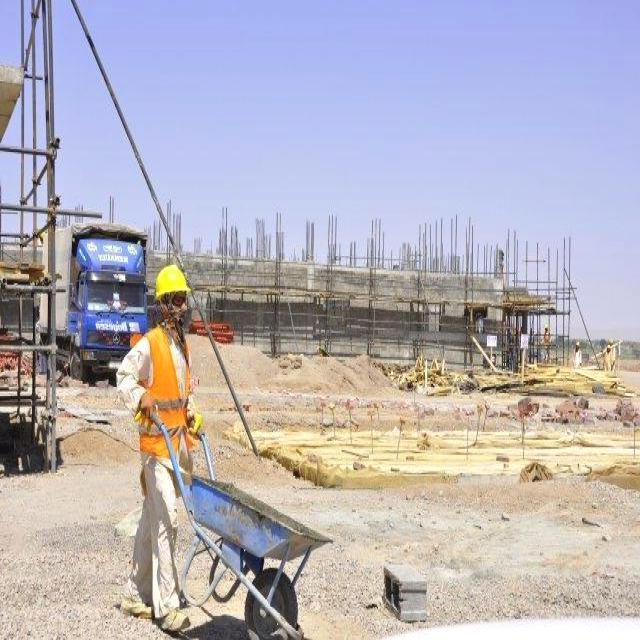hand_glove: (185, 406, 207, 446)
hand_noglove: (137, 393, 159, 432)
head_helmet: (155, 267, 190, 301)
person: (122, 262, 193, 619)
shoes: (154, 600, 190, 636)
vest: (136, 333, 188, 450)
